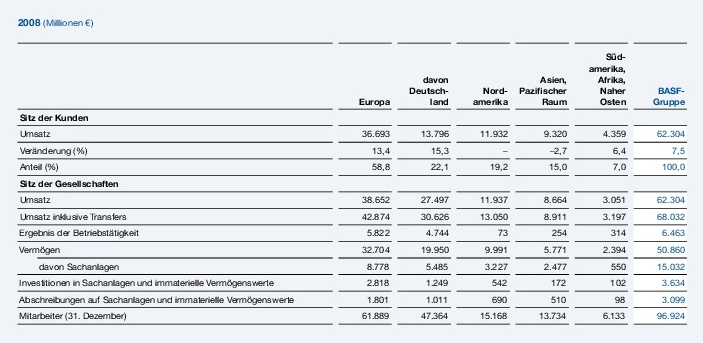table: (0, 0, 703, 343)
